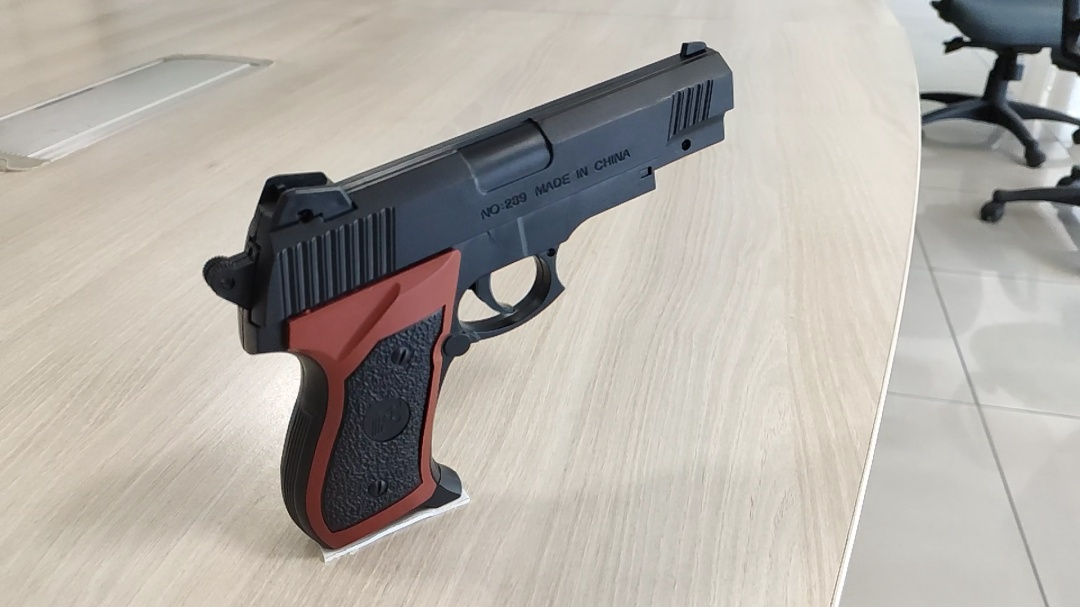gun: (201, 41, 736, 553)
